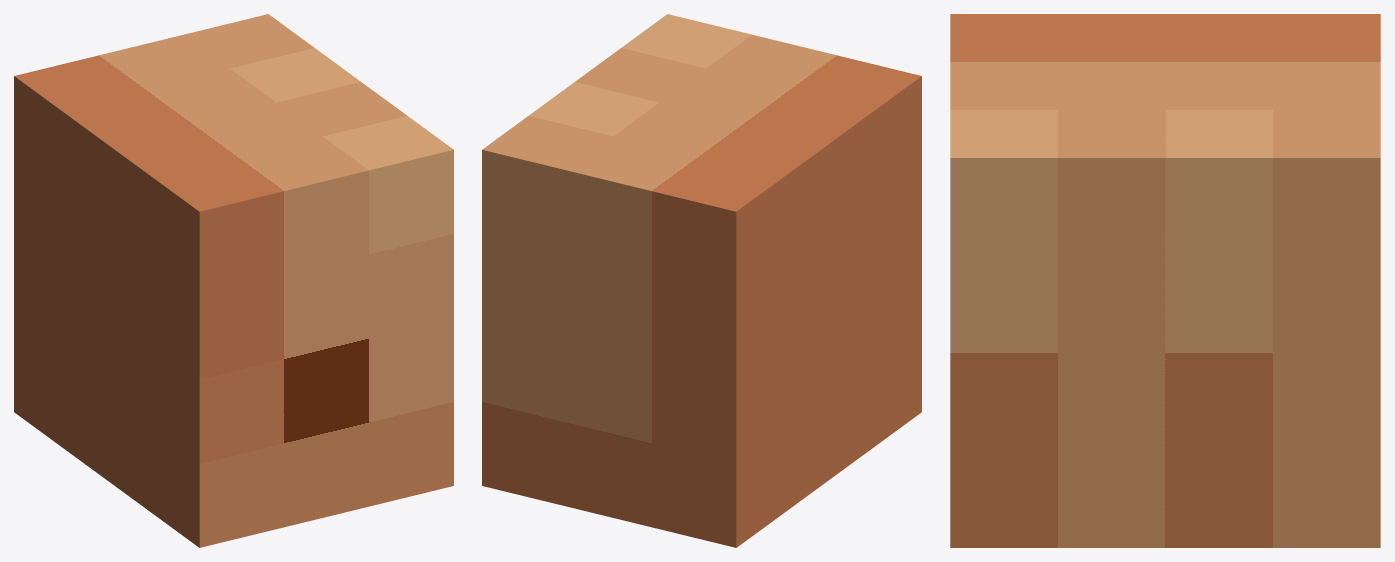
Rendered from skM1_jesse_handLeftDefault.glb.
3 views of the same model, side by side, from view 1: azimuth 30°, elevation 25°; view 2: azimuth 150°, elevation 25°; view 3: azimuth 270°, elevation 25° (orthographic). The views are drawn at different scales.
Parts seen in each view (by area): view 1: skM1_jesse; view 2: skM1_jesse; view 3: skM1_jesse.
Part boxes in pixels (left/top/right/bottom): skM1_jesse: left=14, top=14, right=453, bottom=547; skM1_jesse: left=482, top=14, right=921, bottom=547; skM1_jesse: left=950, top=14, right=1380, bottom=547.
Size of the model in its own units: 0.1764 by 0.2228 by 0.2228.
Materials: 1 (1 with a texture image).
